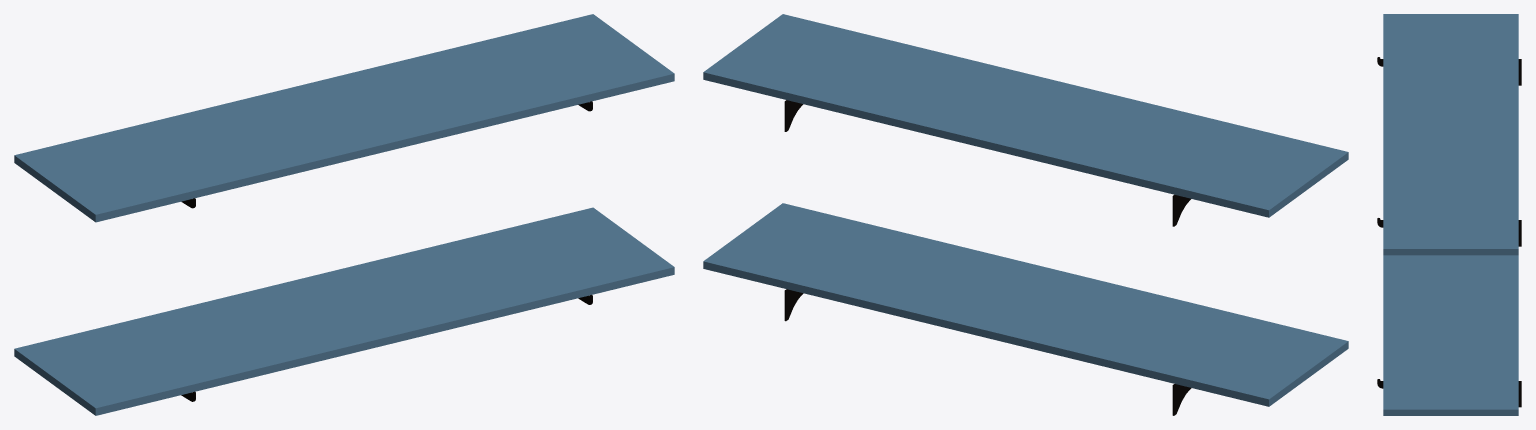
Rendered from shelving.obj.
3 renders of one model, left to right at view 1: azimuth 30°, elevation 25°; view 2: azimuth 150°, elevation 25°; view 3: azimuth 270°, elevation 25°, orthographic. The views are drawn at different scales.
Parts seen in each view (by area): view 1: Shelving_2, Shelving_1; view 2: Shelving_2, Shelving_1; view 3: Shelving_2, Shelving_1, Shelving_10, Shelving_11, Shelving_12.
Boxes of the visible parts, x1,y1,x2,y2 form: Shelving_2: (14, 14, 674, 222); Shelving_1: (14, 207, 674, 415); Shelving_2: (703, 14, 1348, 217); Shelving_1: (703, 203, 1348, 406); Shelving_2: (1383, 14, 1518, 255); Shelving_1: (1383, 255, 1518, 415); Shelving_10: (1377, 57, 1521, 85); Shelving_11: (1377, 218, 1521, 246); Shelving_12: (1377, 379, 1521, 407).
Size of the model in its own units: 119 by 45.64 by 30.89.
